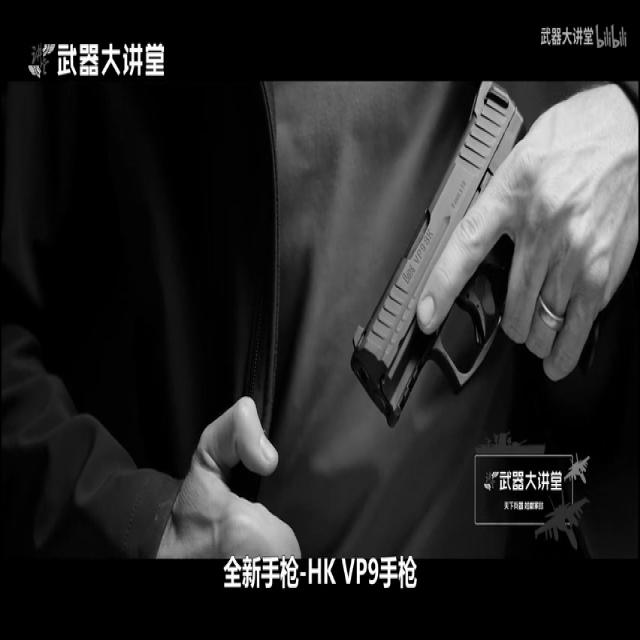Hand-Gun: (353, 75, 560, 473)
